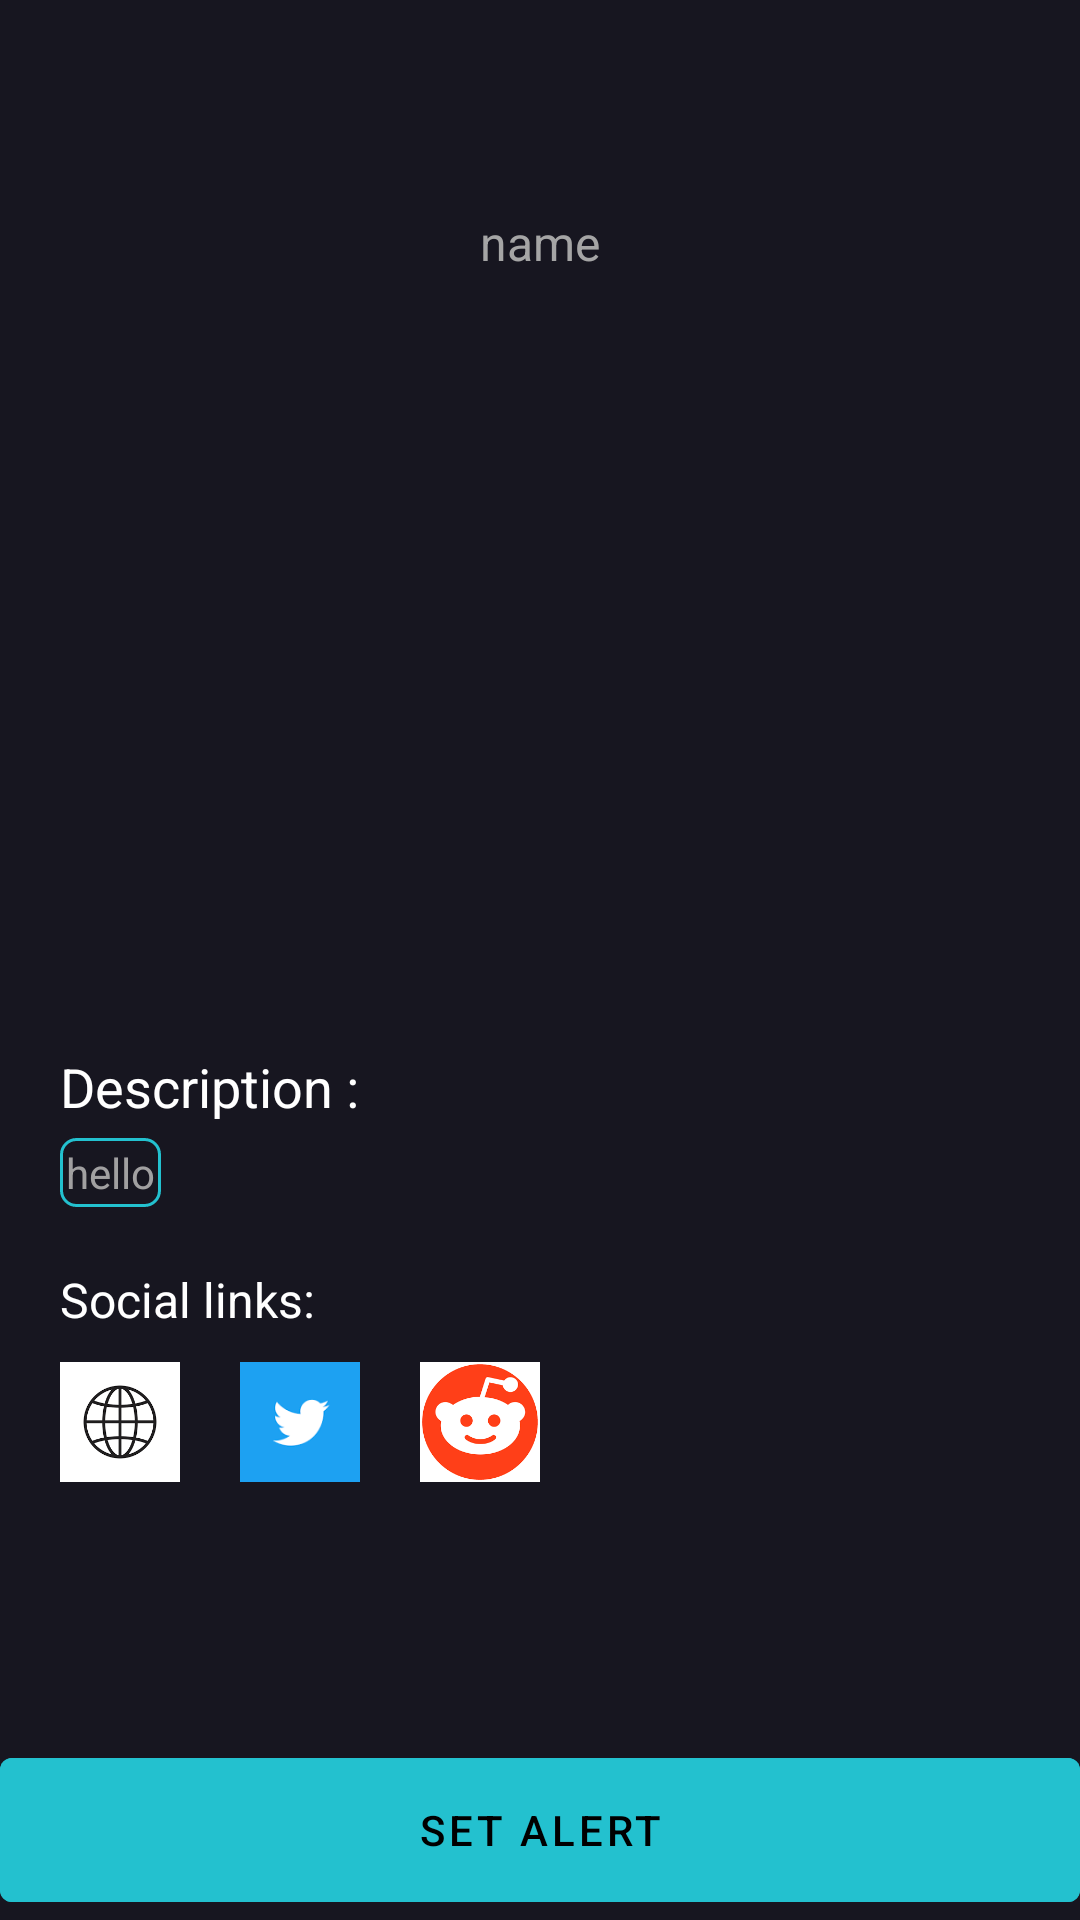

Icon bounding boxes for this 1080 x 1920 phone screenshot, format [x1,y1,x2,y2]:
website: [60,1362,180,1482]
